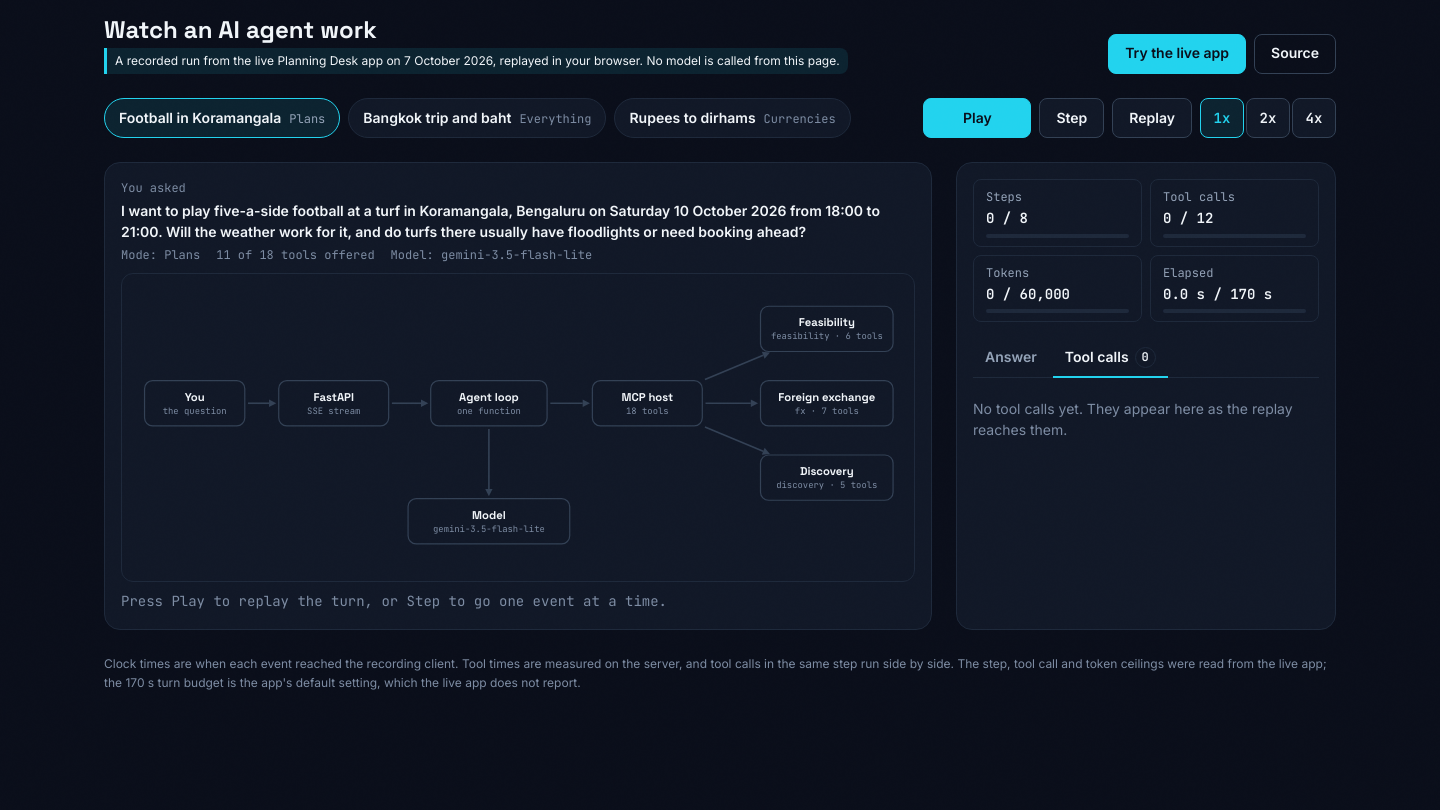
LabComponent › switches runs from the picker and starts playing
Click the button "Bangkok trip and baht Everything".
click(477, 118)  # box left=348, top=98, right=606, bottom=138
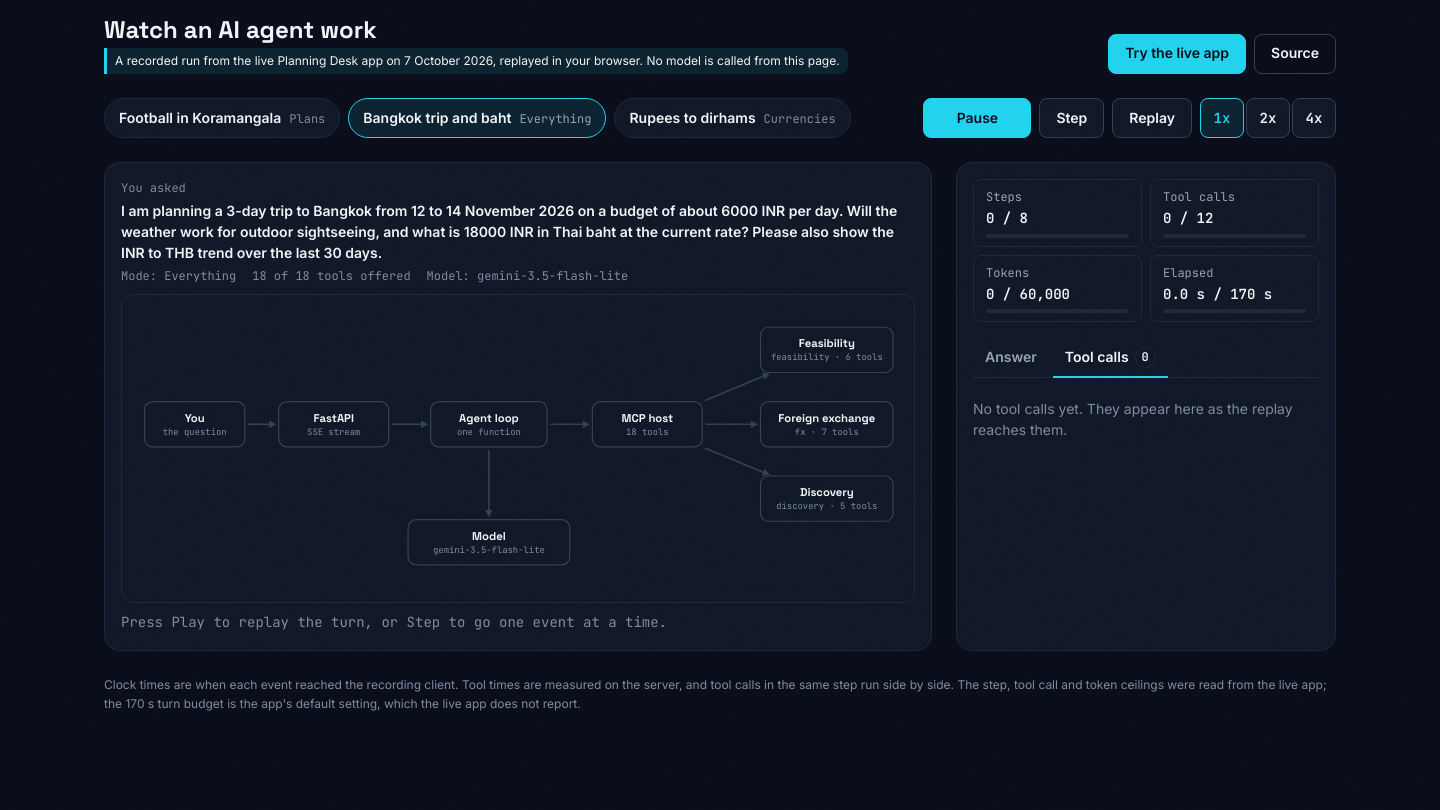
Now the text with class "lab__question-text" shows "I am planning a 3-day trip to Bangkok from 12 to 14 November 2026 on a budget of about 6000 INR per day. Will the weather work for outdoor sightseeing, and what", box left=121, top=202, right=897, bottom=261
Now the button with class "lab__btn--primary" reads "Pause", box left=923, top=98, right=1031, bottom=138
